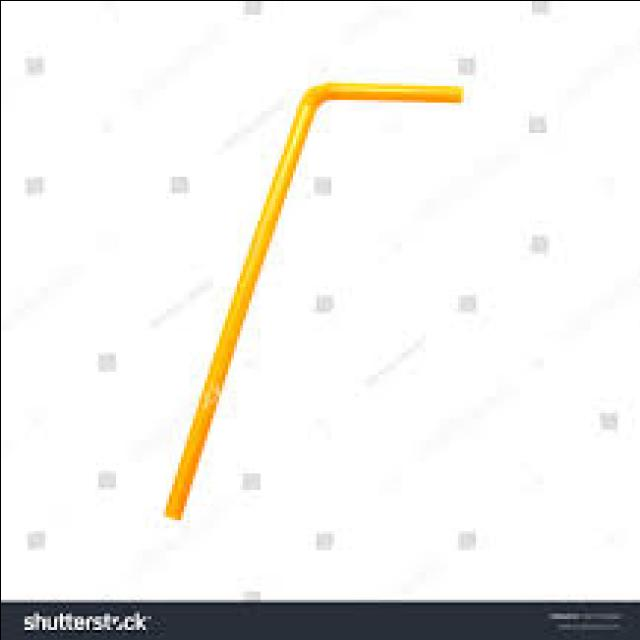straw: (164, 81, 460, 518)
